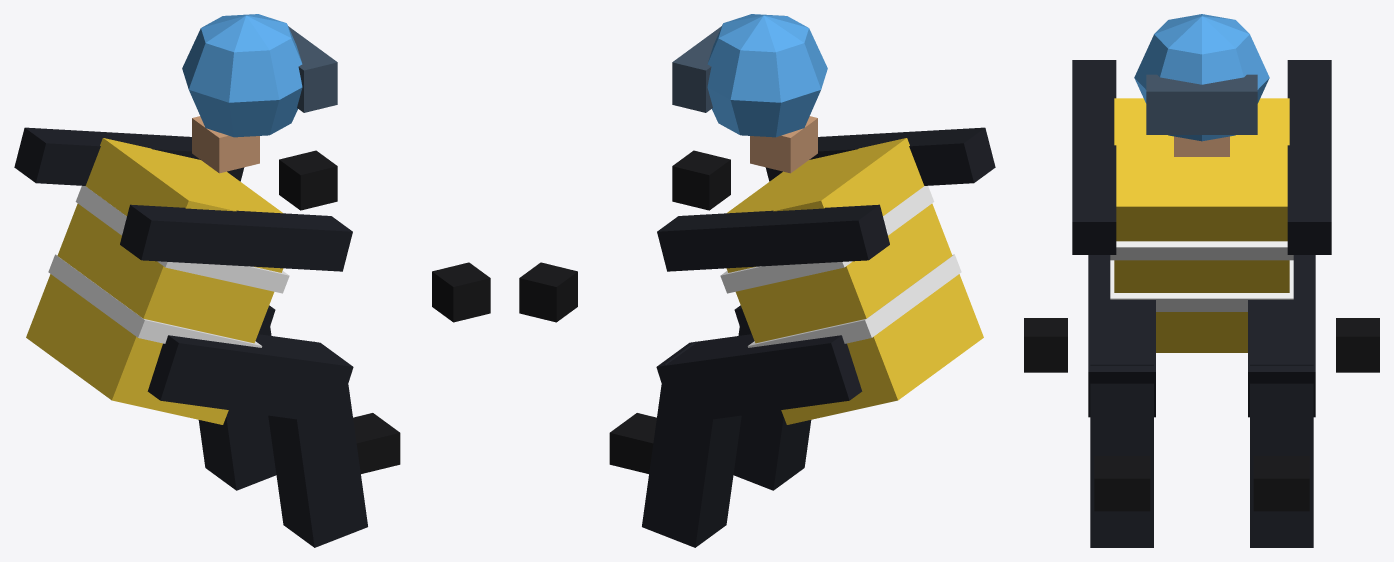
The model's file is jetski_rider_oro_cielo.obj.
3 renders of one model, left to right at view 1: azimuth 30°, elevation 25°; view 2: azimuth 150°, elevation 25°; view 3: azimuth 270°, elevation 25°, orthographic. The views are drawn at different scales.
Parts seen in each view (by area): view 1: jetski_rider_oro_cielo; view 2: jetski_rider_oro_cielo; view 3: jetski_rider_oro_cielo.
Boxes of the visible parts, bbox=[...] form: jetski_rider_oro_cielo: bbox=[14, 14, 490, 547]; jetski_rider_oro_cielo: bbox=[519, 14, 995, 547]; jetski_rider_oro_cielo: bbox=[1024, 14, 1379, 547].
Bounding box in the file's own units: 0.9894 × 1.4 × 0.893.
